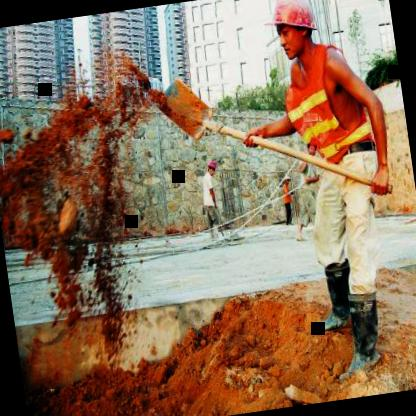helmet: (263, 0, 323, 64), (204, 158, 219, 178)
